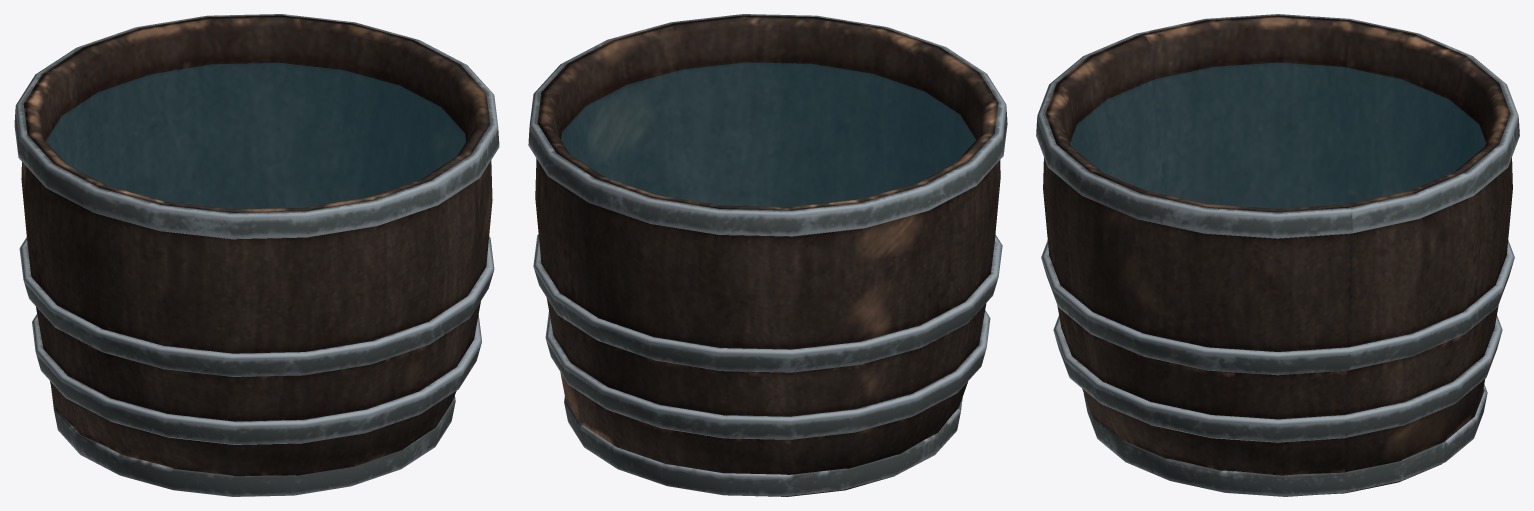
The model's file is quench_tub.glb.
The picture shows the model from 3 angles, left to right: view 1: azimuth 30°, elevation 25°; view 2: azimuth 150°, elevation 25°; view 3: azimuth 270°, elevation 25°; orthographic projection.
Visible parts, largest first — view 1: SM_WaterBucket2_150_M_WaterBucket_0; view 2: SM_WaterBucket2_150_M_WaterBucket_0; view 3: SM_WaterBucket2_150_M_WaterBucket_0.
Part boxes in pixels (box(x1,y1,x2,y2)): SM_WaterBucket2_150_M_WaterBucket_0: box(14, 14, 499, 496); SM_WaterBucket2_150_M_WaterBucket_0: box(528, 14, 1007, 496); SM_WaterBucket2_150_M_WaterBucket_0: box(1036, 14, 1519, 496).
Size of the model in its own units: 102 by 70 by 102.
Materials: 2 (2 with a texture image).
